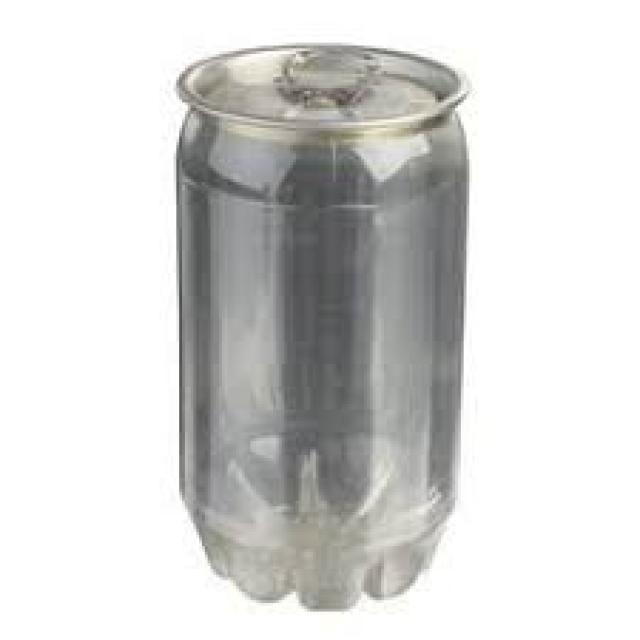Cans: (165, 37, 472, 617)
